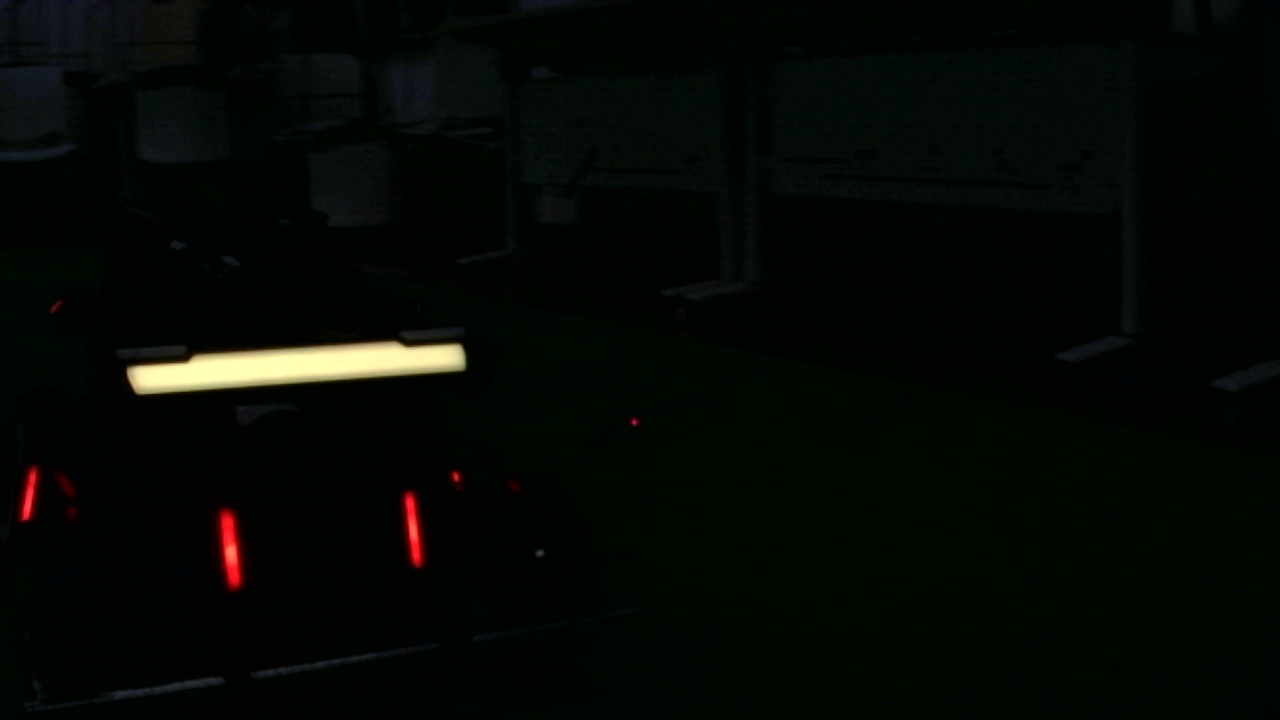lamp: (217, 510, 241, 588), (403, 488, 424, 568), (17, 460, 42, 521)
notpair1: (16, 463, 243, 592)
pair1: (221, 490, 427, 590)
